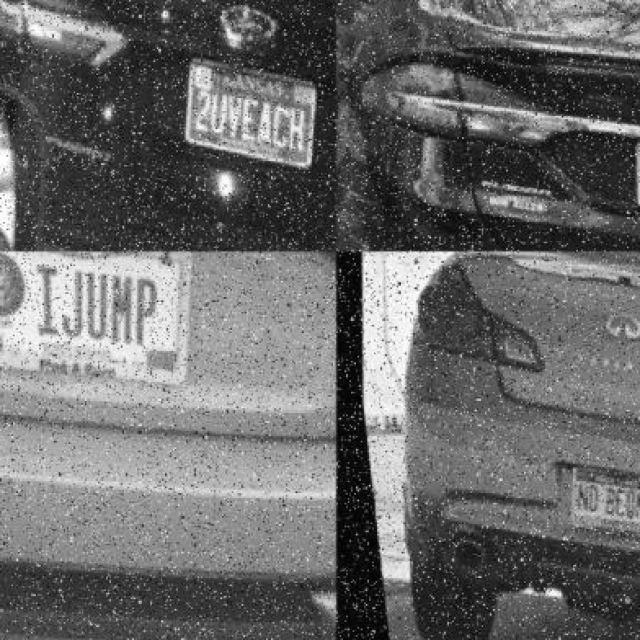licenseplate: (0, 238, 184, 385), (163, 54, 316, 167)
